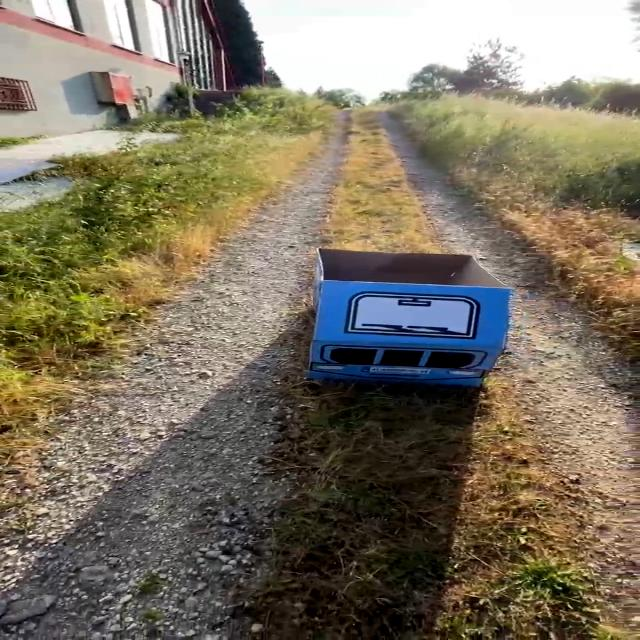blue_car: (263, 232, 533, 405)
